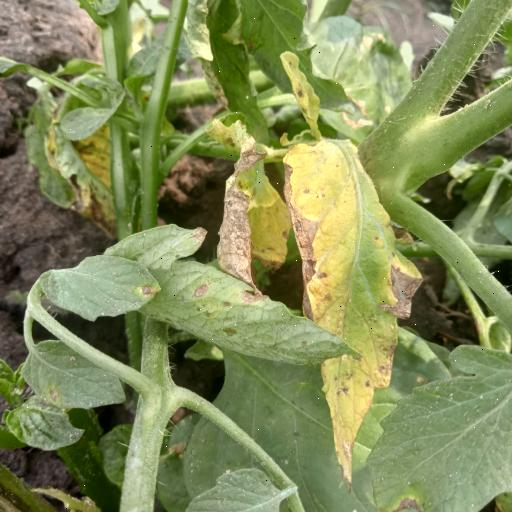Tomato_Brown_Spots: (273, 136, 417, 486), (54, 223, 358, 368), (365, 344, 512, 512)
